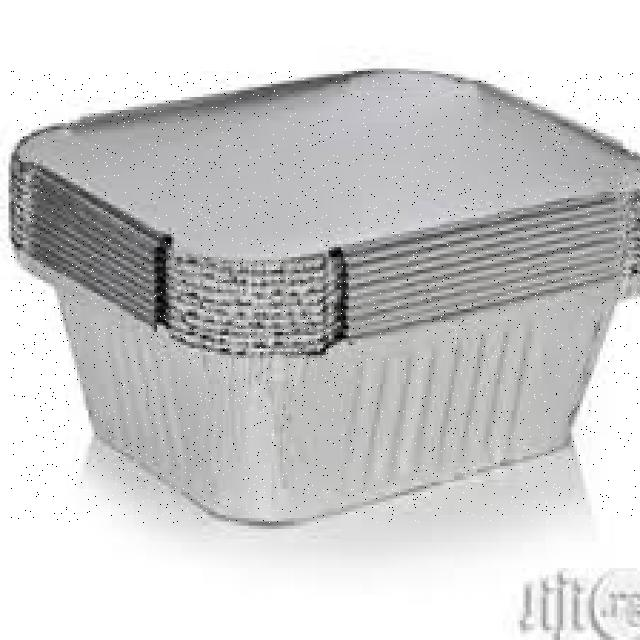metal: (12, 72, 640, 523)
